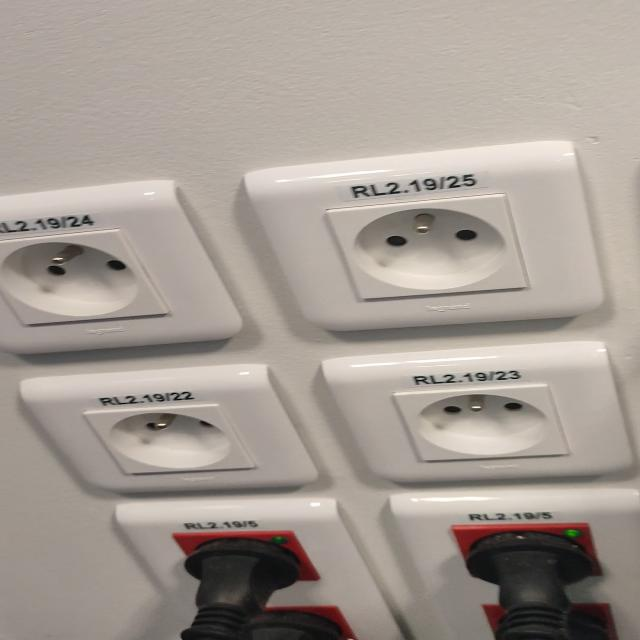house plug: (326, 192, 530, 300), (0, 229, 169, 325), (393, 384, 571, 461), (81, 403, 261, 477)
